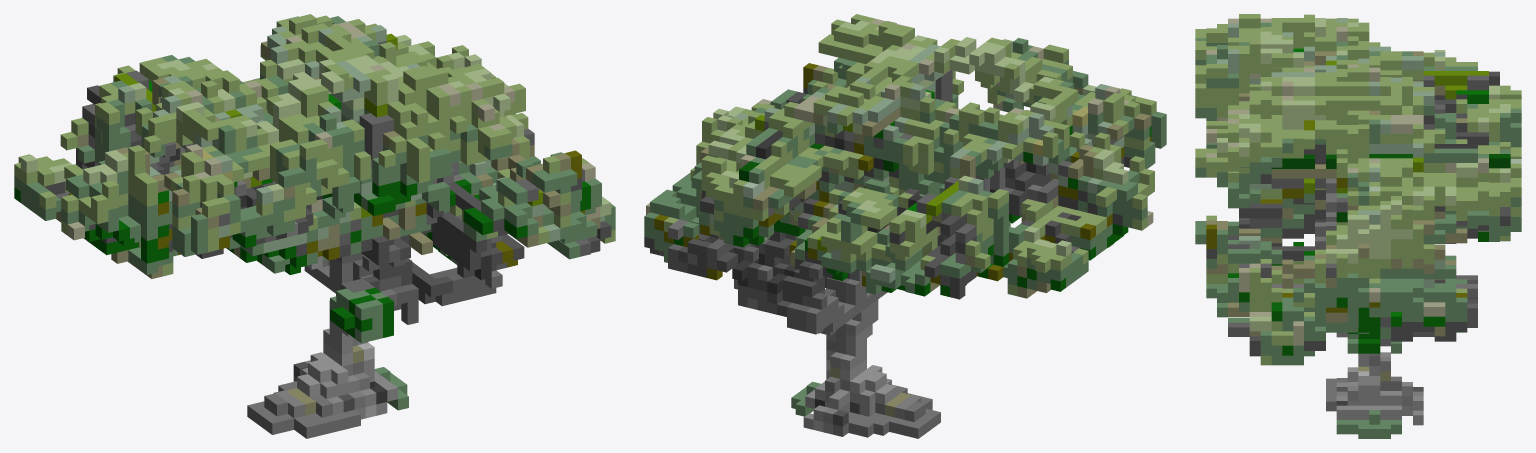
Rendered from large_tree_voxel.glb.
The picture shows the model from 3 angles, left to right: view 1: azimuth 30°, elevation 25°; view 2: azimuth 150°, elevation 25°; view 3: azimuth 270°, elevation 25°; orthographic projection. The views are drawn at different scales.
Visible parts, largest first — view 1: Geode; view 2: Geode; view 3: Geode.
Part boxes in pixels (bbox=[...]): Geode: bbox=[14, 14, 615, 438]; Geode: bbox=[644, 14, 1166, 438]; Geode: bbox=[1195, 14, 1521, 438].
Bounding box in the file's own units: 47 × 34 × 30.
